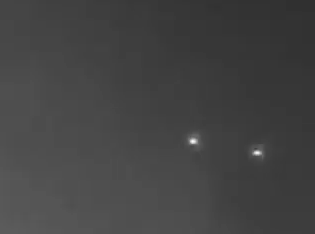Target: (190, 138, 261, 155)
